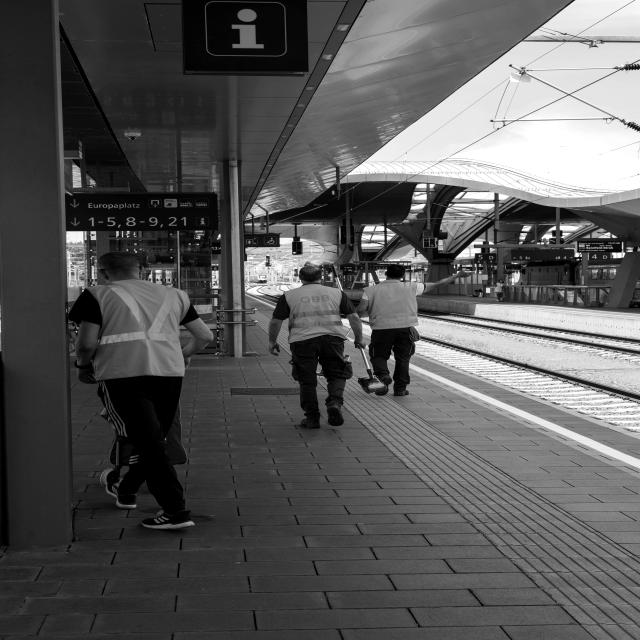Vest: (76, 284, 192, 380), (284, 283, 346, 345), (364, 284, 419, 332)
